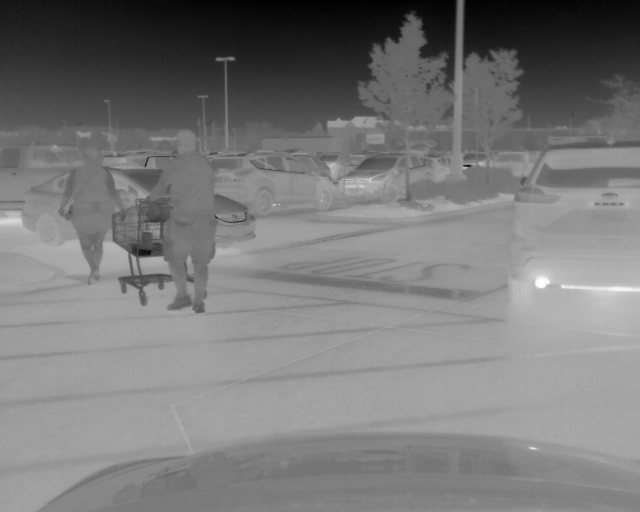car: (508, 141, 640, 304), (25, 165, 259, 252), (208, 148, 336, 216), (1, 143, 87, 219), (339, 152, 447, 200), (493, 146, 535, 181), (465, 149, 497, 174)
people: (145, 129, 212, 313), (58, 144, 123, 284)
